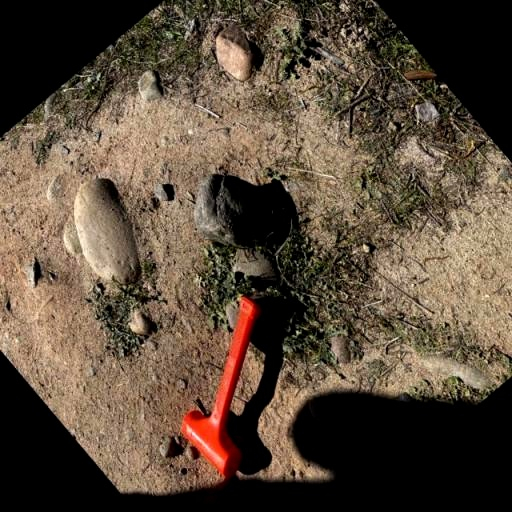mallet: (140, 291, 332, 481)
